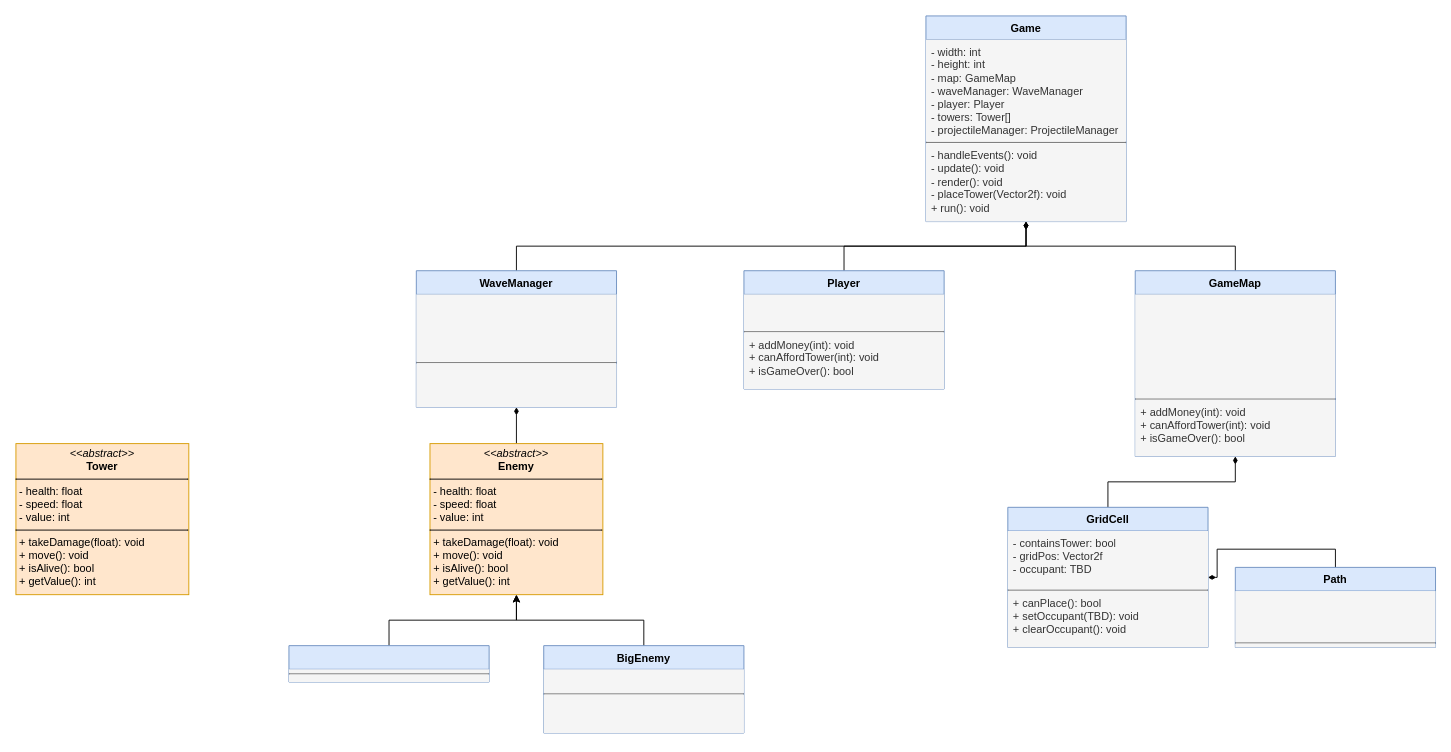
The diagram is 1451 pixels wide and 752 high, and some of its shapes have lost their labels. Here are the shapes that lost their labels. From the top down, the centre of each, then its label:
At point 516,327: "- currentWave: int - waveDelay: int - enemies: Enemy[] - waves: WaveData[]".
At point 843,312: "- lives: int - money: int".
At point 1235,346: "- grid: [][] - paths: Path[]".
At point 516,385: "+ spawnWave(): void + isWaveDefeated(): void".
At point 1335,616: "- openings: str - isTurnPath: bool - pathSprite: Sprite".
At point 388,663: "BasicEnemy".
At point 643,681: "- armor: float".
At point 643,713: "+ move(): void + takeDamage(float);".
